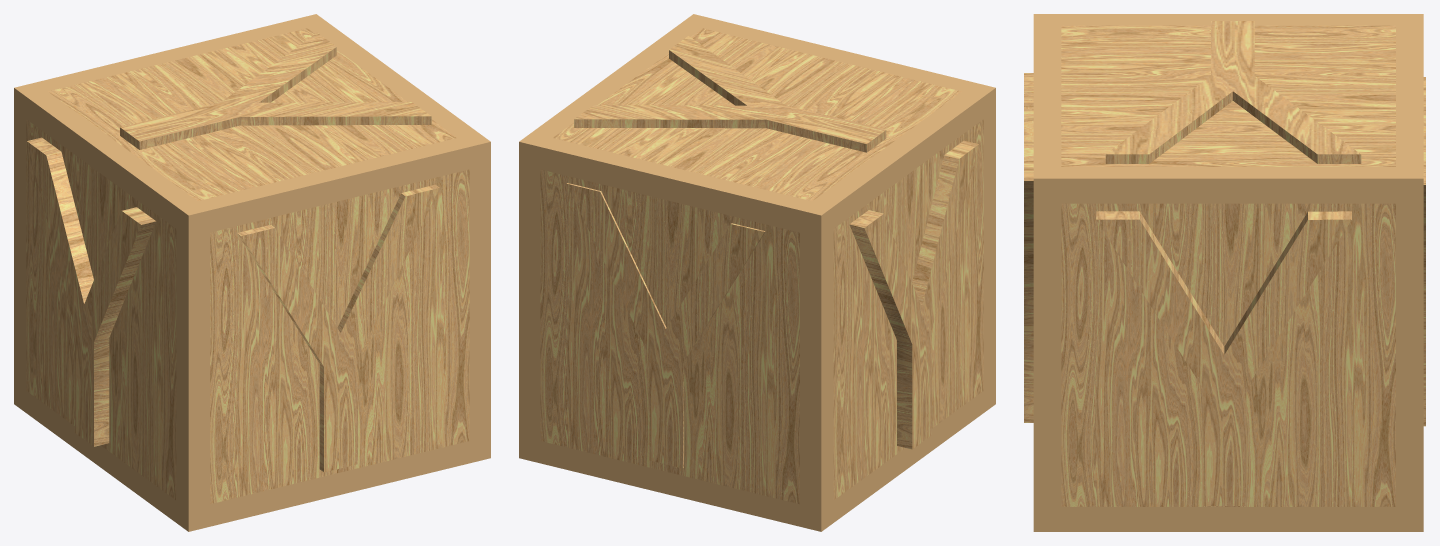
The model's file is block-y.fbx.
The picture shows the model from 3 angles, left to right: view 1: azimuth 30°, elevation 25°; view 2: azimuth 150°, elevation 25°; view 3: azimuth 270°, elevation 25°; orthographic projection. The views are drawn at different scales.
Visible parts, largest first — view 1: Box, FRONT, LEFT, TOP; view 2: Box, BACK, LEFT, TOP; view 3: Box, RIGHT, TOP, FRONT, BACK.
Part boxes in pixels (box(x1,y1,x2,y2)): Box: box(14, 14, 490, 531); FRONT: box(237, 184, 439, 472); LEFT: box(27, 137, 156, 446); TOP: box(120, 32, 431, 149); Box: box(519, 14, 995, 531); BACK: box(566, 183, 765, 468); LEFT: box(849, 140, 978, 449); TOP: box(574, 35, 886, 152); Box: box(1033, 14, 1423, 531); RIGHT: box(1096, 211, 1351, 505); TOP: box(1105, 21, 1361, 163); FRONT: box(1024, 73, 1033, 422); BACK: box(1423, 77, 1425, 426).
Size of the model in its own units: 1.1 by 1.04 by 1.03.
2 materials, 2 textured.
